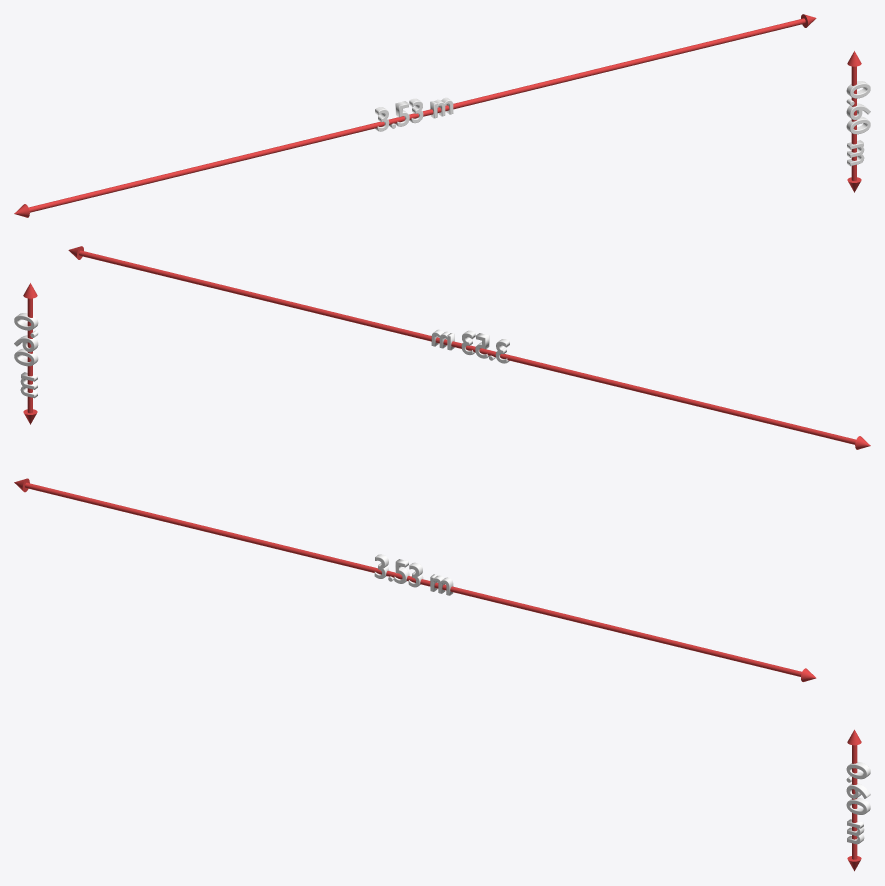
File: dimentionFDDM8.gltf
3 renders of one model, top to bottom at view 1: azimuth 30°, elevation 25°; view 2: azimuth 150°, elevation 25°; view 3: azimuth 330°, elevation 25°, orthographic.
Parts seen in each view (by area): view 1: Text.007; view 2: Text.007; view 3: Text.007.
Boxes of the visible parts, x1,y1,x2,y2 form: Text.007: [14, 14, 870, 217]; Text.007: [14, 246, 870, 449]; Text.007: [14, 478, 870, 871].
Size of the model in its own units: 30.49 by 6.82 by 0.4388.
